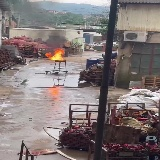fire: (45, 49, 66, 60)
